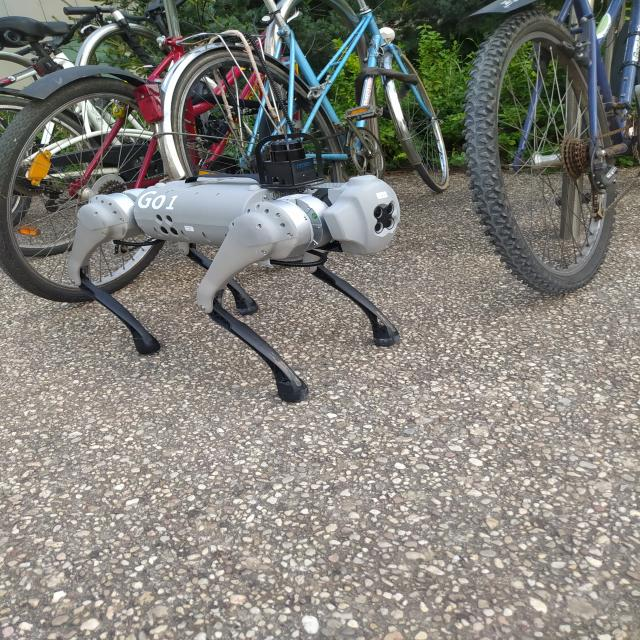unitree-go1-robot: (64, 161, 426, 417)
